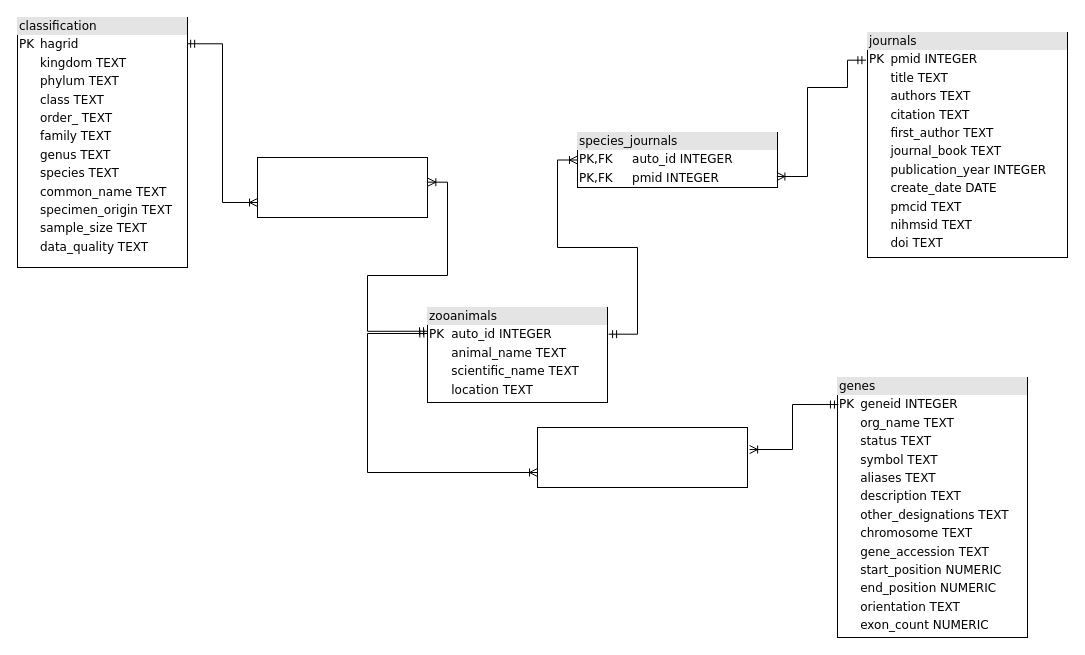
Image size: 1085x655. Some labels were removed from this diagram. Each missing label, with the centre of its shape:
animal_classification PK,FK auto_id INTEGER PK,FK hagrid INTEGER: (342,187)
gene_species PK,FK geneid INTEGER PK,FK auto_id INTEGER: (642,457)
